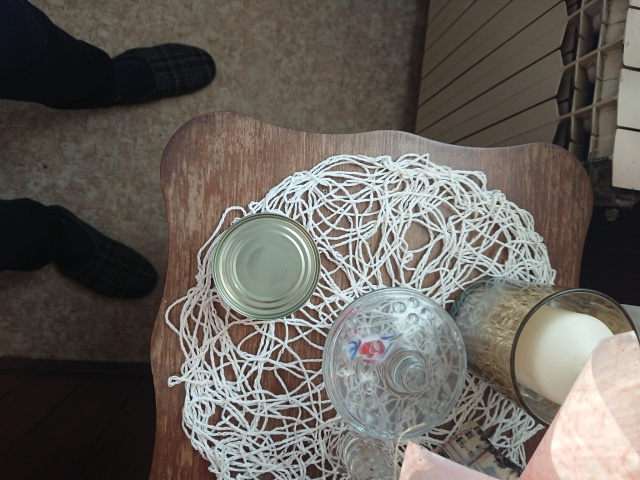Podravka Luncheon Meat 150g: (210, 209, 323, 322)
